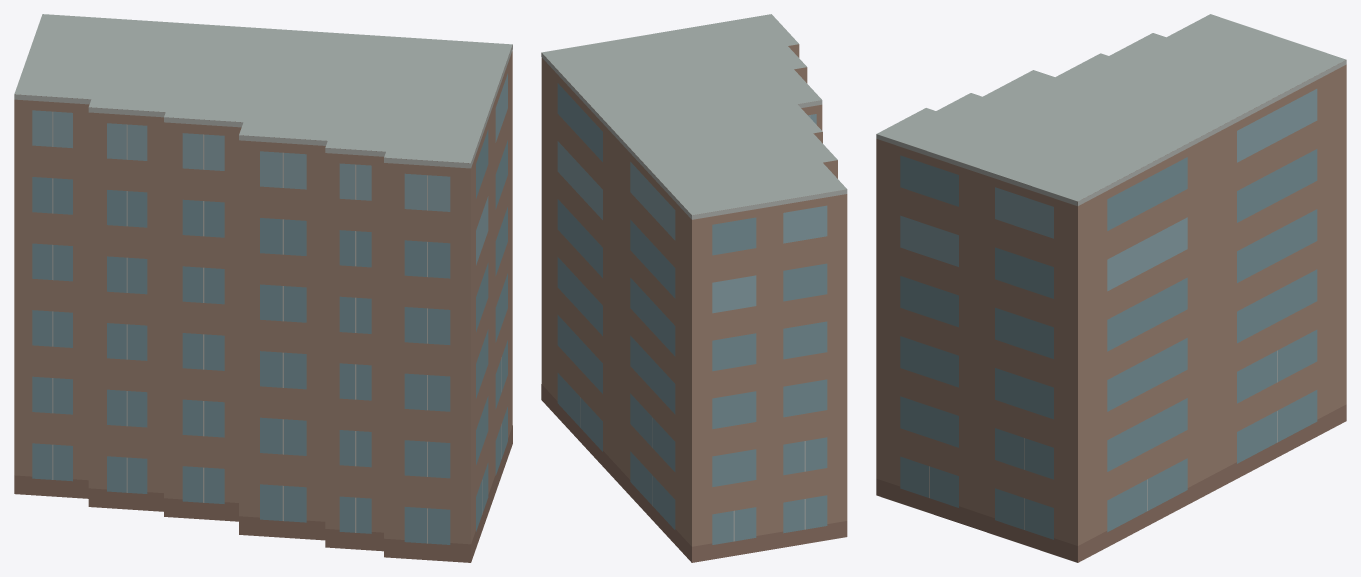
Rendered from survey-upis-33006516.glb.
The picture shows the model from 3 angles, left to right: view 1: azimuth 30°, elevation 25°; view 2: azimuth 150°, elevation 25°; view 3: azimuth 270°, elevation 25°; orthographic projection. The views are drawn at different scales.
Parts seen in each view (by area): view 1: survey-upis-33006516.tmp; view 2: survey-upis-33006516.tmp; view 3: survey-upis-33006516.tmp.
Boxes of the visible parts, bbox=[...] form: survey-upis-33006516.tmp: bbox=[14, 14, 512, 562]; survey-upis-33006516.tmp: bbox=[541, 14, 847, 562]; survey-upis-33006516.tmp: bbox=[876, 14, 1346, 562].
Bounding box in the file's own units: 20.71 × 18.6 × 21.94.
